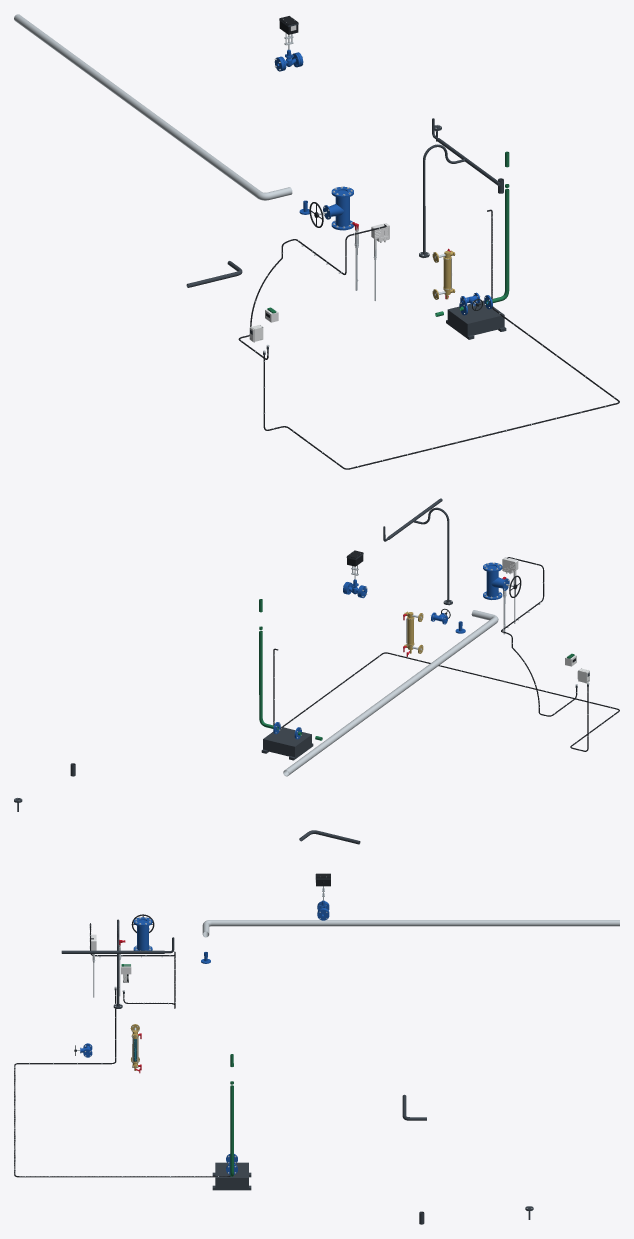
The picture shows the model from 3 angles, top to bottom: view 1: azimuth 30°, elevation 25°; view 2: azimuth 150°, elevation 25°; view 3: azimuth 270°, elevation 25°; orthographic projection. The views are drawn at different scales.
Parts seen in each view (by area): view 1: safety_vent_2 / steel, pump_branch_1 / dark, wiring_pump_1 / black, pressure_header / dark, steam_manual / blue, pump_branch_1 / green; view 2: safety_vent_2 / steel, pump_branch_1 / dark, wiring_pump_1 / black, pressure_header / dark, steam_manual / blue, pump_branch_1 / green, wiring_lcs600 / black, sight_glasses_2 / sight_glasses_2_0.npz; view 3: safety_vent_2 / steel, wiring_pump_1 / black, pump_branch_1 / dark, pressure_header / dark, steam_manual / blue.
Boxes of the visible parts, left/top/right/bottom form: safety_vent_2 / steel: left=14, top=14, right=292, bottom=200; pump_branch_1 / dark: left=446, top=300, right=506, bottom=339; wiring_pump_1 / black: left=263, top=209, right=619, bottom=469; pressure_header / dark: left=419, top=118, right=500, bottom=257; steam_manual / blue: left=323, top=186, right=353, bottom=230; pump_branch_1 / green: left=435, top=151, right=509, bottom=316; safety_vent_2 / steel: left=283, top=610, right=498, bottom=776; pump_branch_1 / dark: left=261, top=727, right=313, bottom=760; wiring_pump_1 / black: left=273, top=648, right=619, bottom=751; pressure_header / dark: left=383, top=498, right=452, bottom=604; steam_manual / blue: left=483, top=562, right=509, bottom=599; pump_branch_1 / green: left=259, top=599, right=322, bottom=740; wiring_lcs600 / black: left=501, top=557, right=577, bottom=716; sight_glasses_2 / sight_glasses_2_0.npz: left=403, top=611, right=423, bottom=656; safety_vent_2 / steel: left=202, top=920, right=619, bottom=937; wiring_pump_1 / black: left=14, top=990, right=230, bottom=1177; pump_branch_1 / dark: left=212, top=1162, right=251, bottom=1190; pressure_header / dark: left=61, top=919, right=174, bottom=1008; steam_manual / blue: left=133, top=917, right=152, bottom=950.
Bounding box in the file's own units: 4.85 × 3.24 × 7.03.
